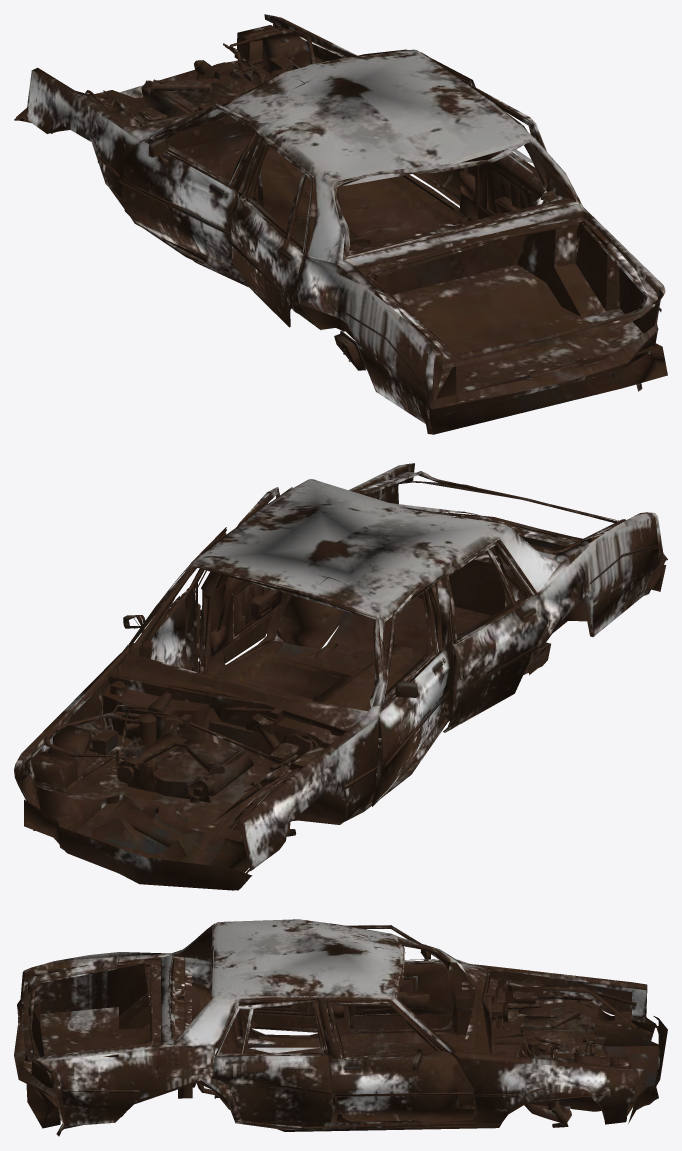
Rendered from car3_sedan_crushed_white.glb.
The picture shows the model from 3 angles, top to bottom: view 1: azimuth 30°, elevation 25°; view 2: azimuth 150°, elevation 25°; view 3: azimuth 270°, elevation 25°; orthographic projection. The views are drawn at different scales.
Parts seen in each view (by area): view 1: Object026_Material #8770_0, Object026_Material #9428_0, Object026_Material #9077_0, Object026_Material #9537_0, Object026_Material #9575_0; view 2: Object026_Material #8770_0, Object026_Material #9537_0, Object026_Material #9575_0, Object026_Material #9428_0, Object026_Material #9077_0; view 3: Object026_Material #8770_0, Object026_Material #9428_0, Object026_Material #9537_0, Object026_Material #9077_0, Object026_Material #9575_0.
Part boxes in pixels (x1,y1,x2,y2): Object026_Material #8770_0: (20,14,665,424); Object026_Material #9428_0: (158,65,657,398); Object026_Material #9077_0: (97,49,667,434); Object026_Material #9537_0: (75,25,601,406); Object026_Material #9575_0: (14,70,645,378); Object026_Material #8770_0: (14,463,667,890); Object026_Material #9537_0: (27,515,579,846); Object026_Material #9575_0: (24,595,591,890); Object026_Material #9428_0: (127,476,659,769); Object026_Material #9077_0: (33,471,666,836); Object026_Material #8770_0: (14,919,658,1130); Object026_Material #9428_0: (33,926,474,1090); Object026_Material #9537_0: (17,960,636,1073); Object026_Material #9077_0: (25,923,571,1136); Object026_Material #9575_0: (39,982,667,1131).
Size of the model in its own units: 1.95 by 1.2 by 4.8.
5 materials, 5 textured.
